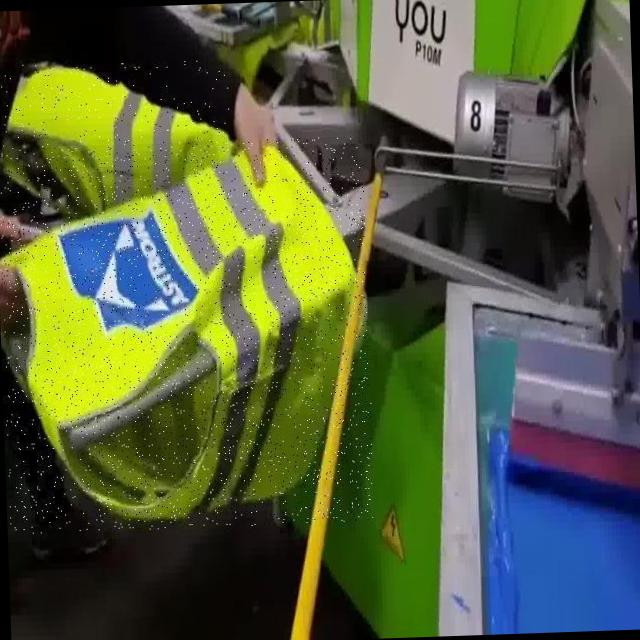safety_vest: (0, 135, 375, 534), (0, 56, 232, 215)
